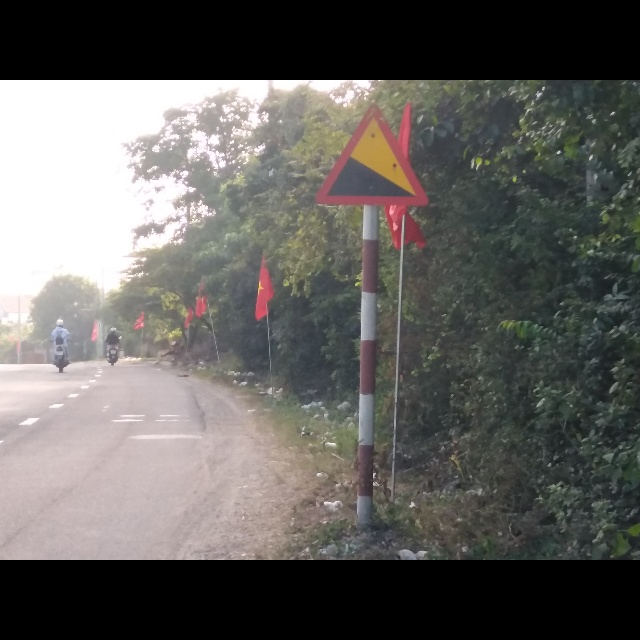Dốc lên nguy hiểm: (317, 100, 432, 204)
